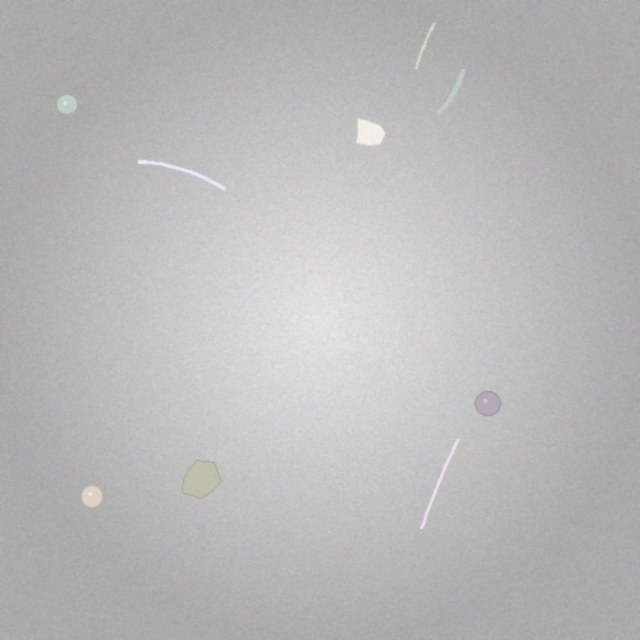fiber: (418, 436, 462, 533), (134, 157, 229, 193), (433, 64, 469, 119), (413, 20, 438, 71)
fragment: (182, 460, 222, 498), (357, 118, 386, 146)
pellet: (476, 391, 500, 415), (81, 486, 103, 507), (57, 95, 77, 115)
